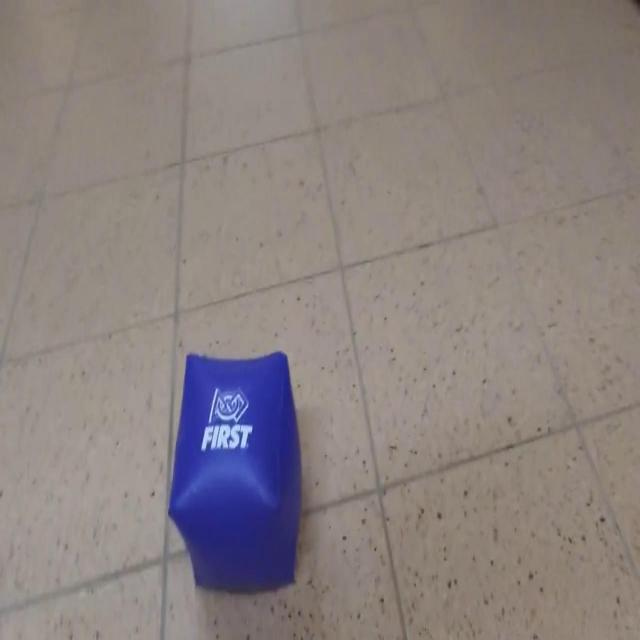frc_cube: (168, 351, 302, 594)
